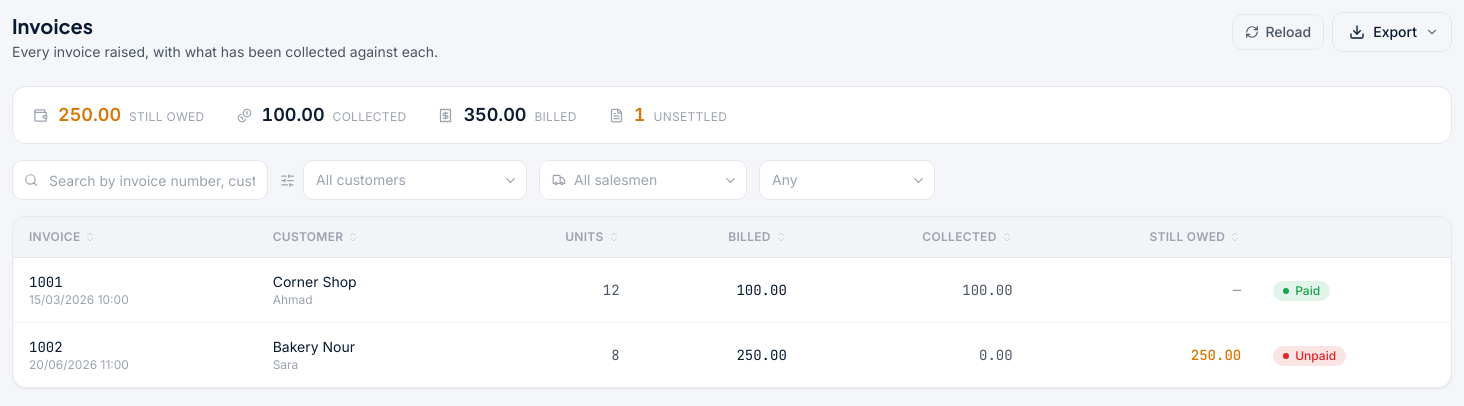
Invoices › finds a document by its number without falling over
The width and height of the screenshot is (1464, 406).
Expected: the table is shown, [13,258,1451,387]
Expected: the text "Corner Shop" is shown, [273,273,357,290]
In the field with placeholder "Search by invoice number, customer or salesman…": (140, 180) [12,160,268,200], type "1002"
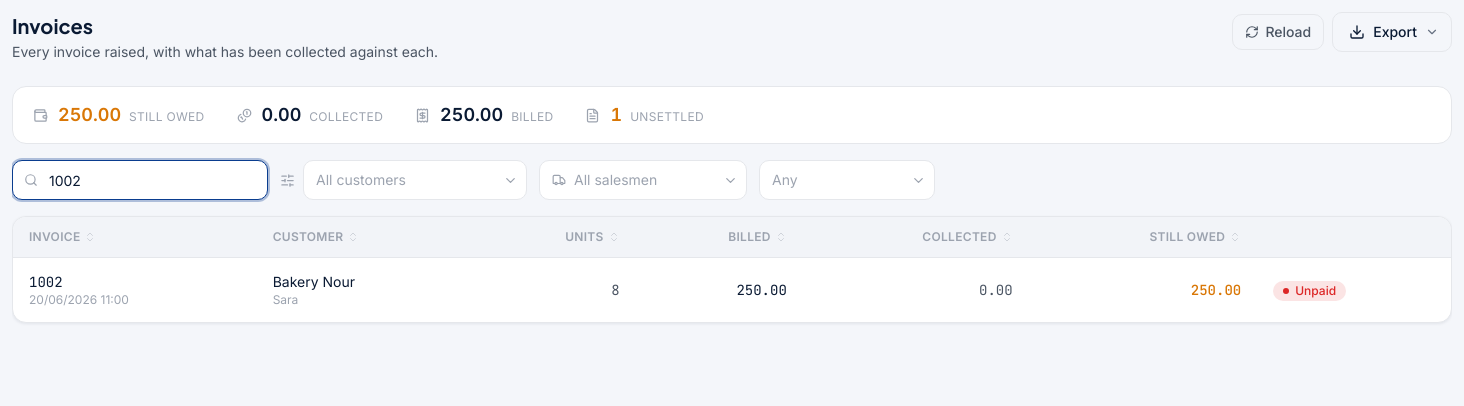
Expected: the text "Bakery Nour" is shown, [273,273,355,290]
Expected: the text "Corner Shop" is gone
